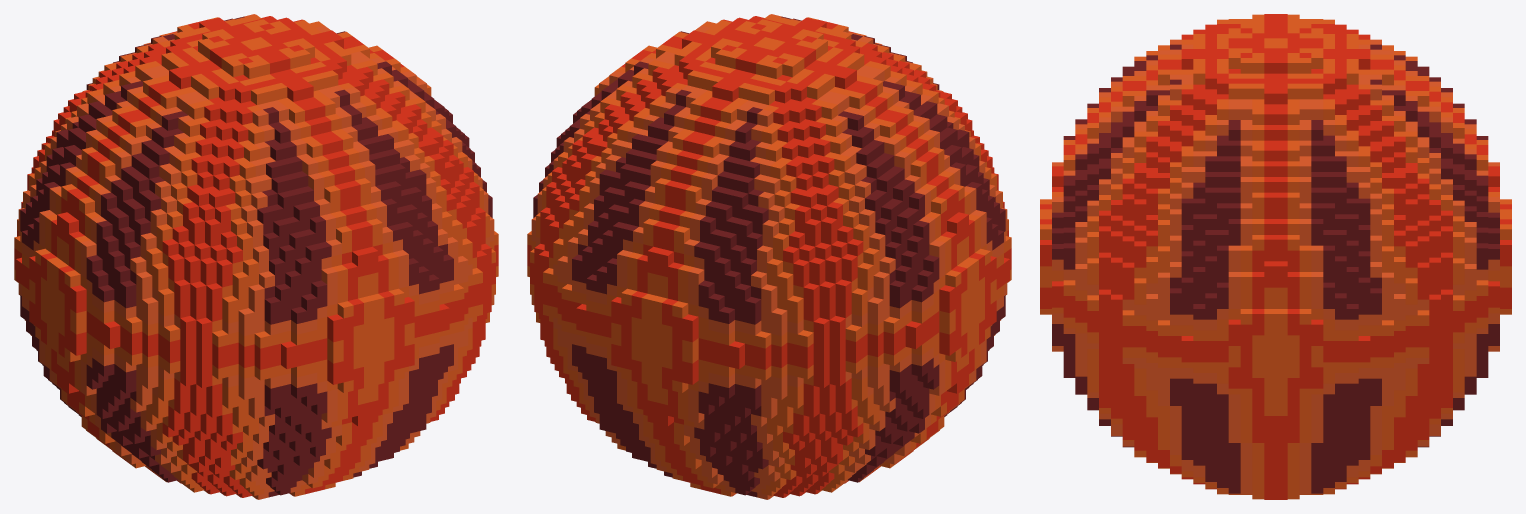
Rendered from хер пойми что это.obj.
The picture shows the model from 3 angles, left to right: view 1: azimuth 30°, elevation 25°; view 2: azimuth 150°, elevation 25°; view 3: azimuth 270°, elevation 25°; orthographic projection.
Size of the model in its own units: 4 by 4 by 4.
1 material, 1 textured.
